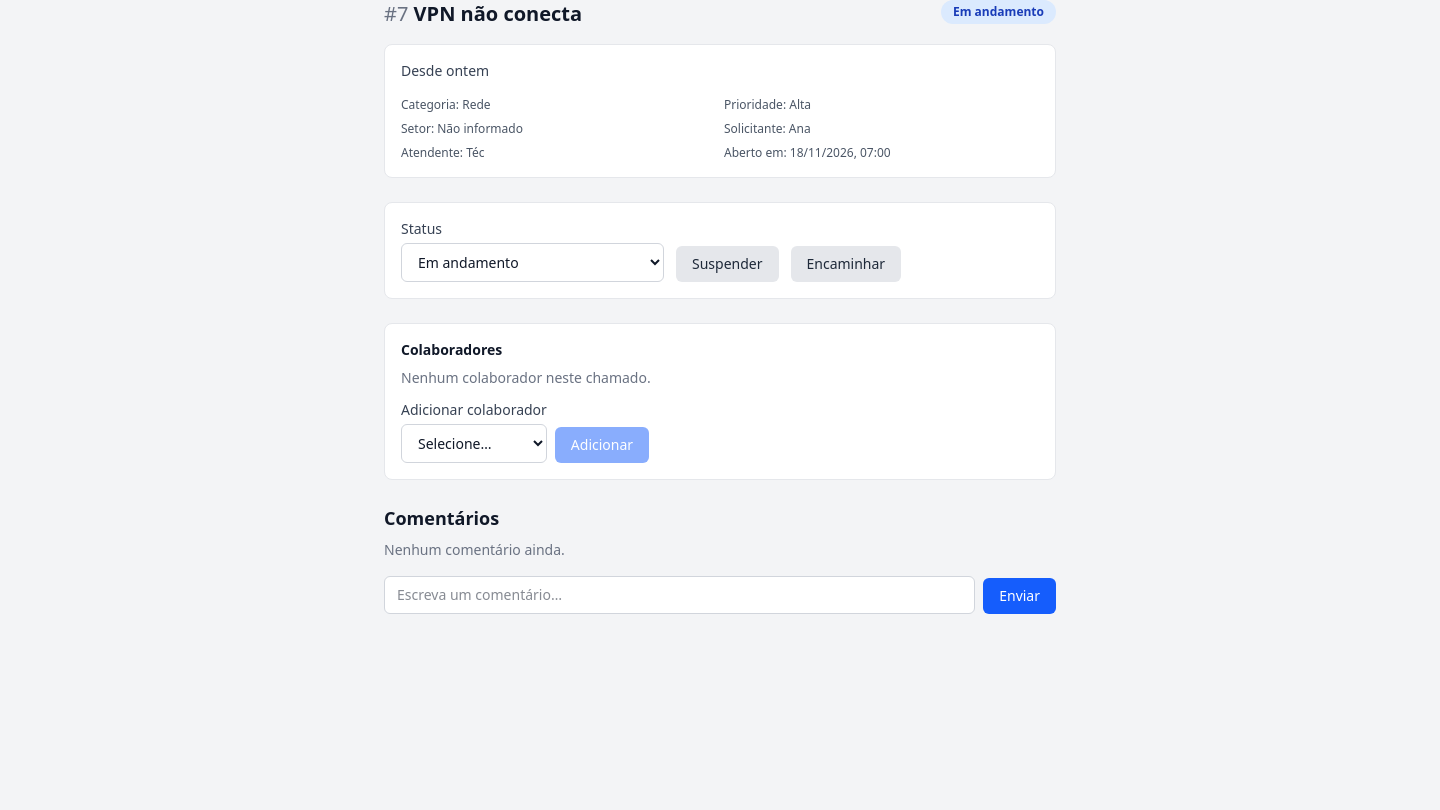
it: TicketDetalhe: encaminhar › só libera o envio com atendente escolhido e motivo de pelo menos 5 caracteres
Click the button "Encaminhar" at (846, 264), box [790, 246, 901, 282]
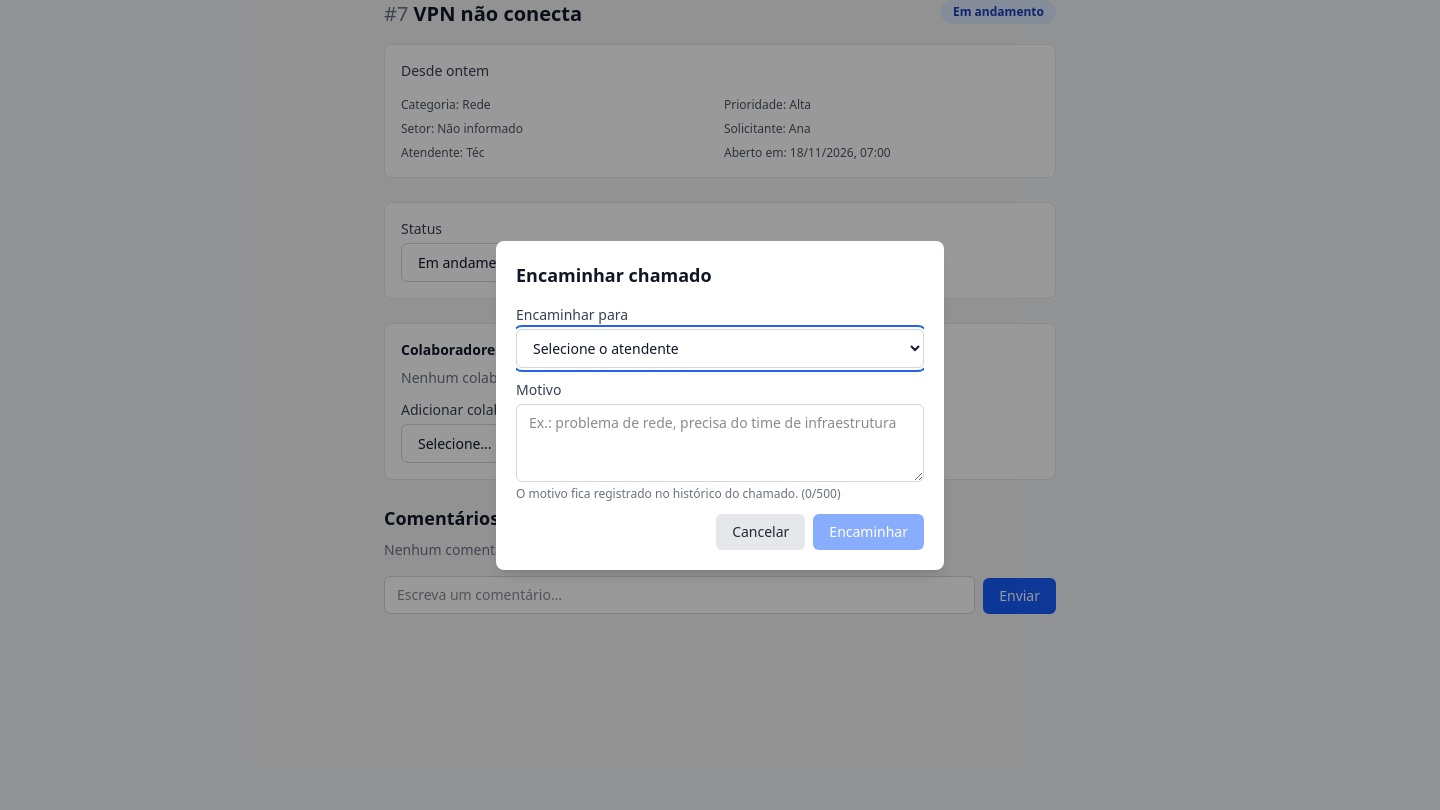
Now the button "Encaminhar" is disabled, box [813, 514, 924, 550]
Select "Bruno" in the dropdown at (720, 348), box [516, 328, 924, 368]
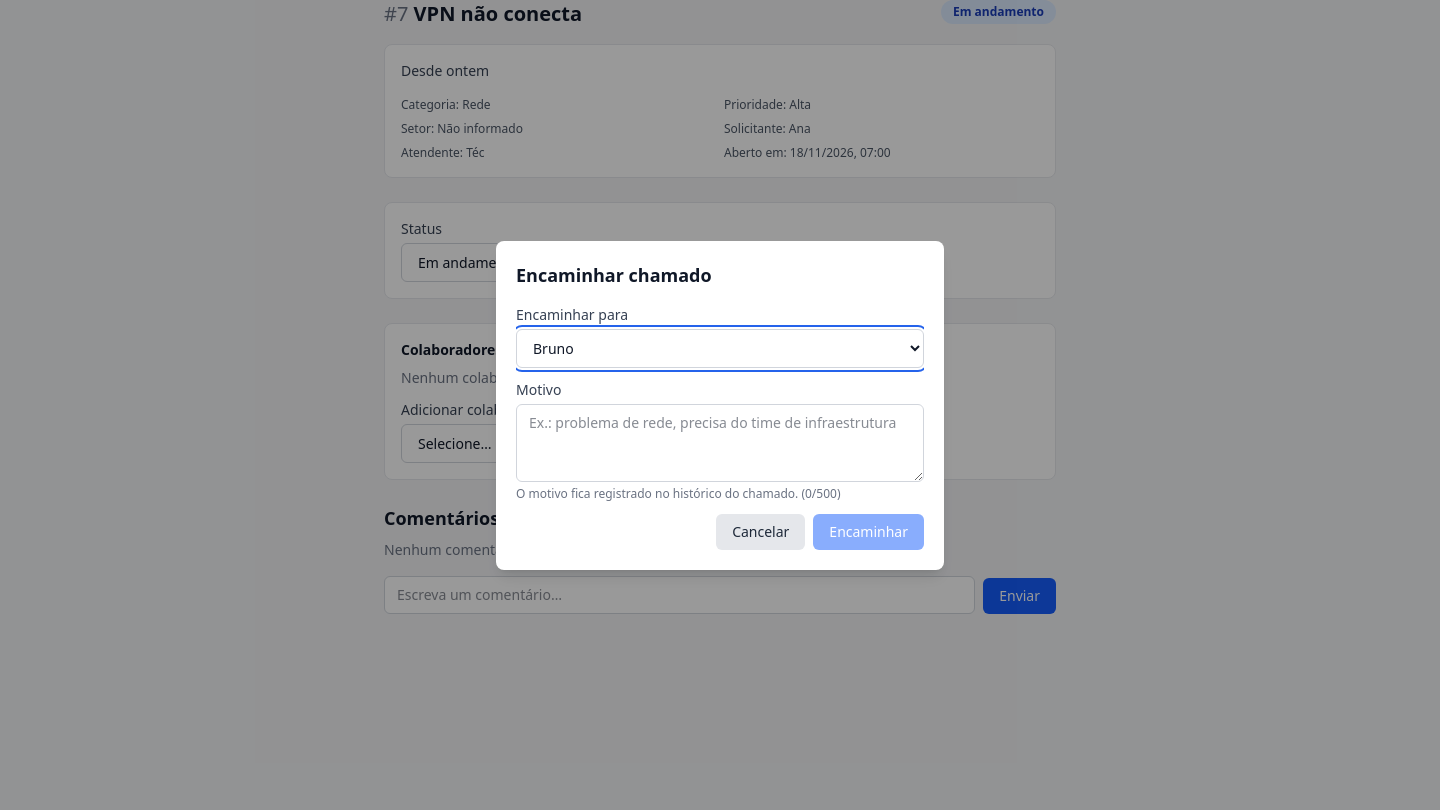
Now the button "Encaminhar" is disabled, box [813, 514, 924, 550]
Type "  abc  " into the text box labelled "Motivo" at (720, 442), box [516, 404, 924, 482]
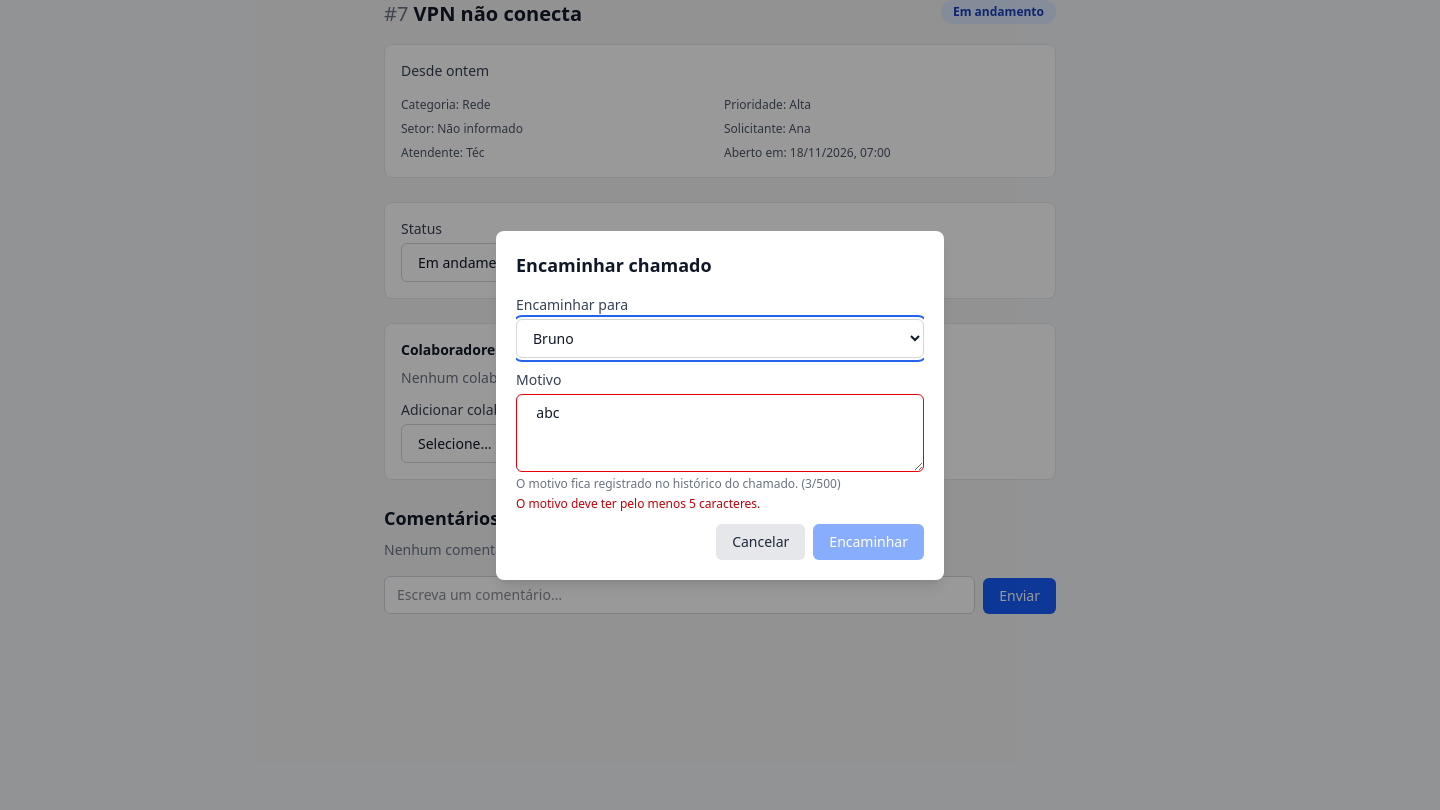
Now the button "Encaminhar" is disabled, box [813, 524, 924, 560]
Now the text "O motivo deve ter pelo menos 5 caracteres." is shown, box [516, 494, 760, 512]
Replace the text in the text box labelled "Motivo" with "abcde" at (720, 432), box [516, 394, 924, 472]
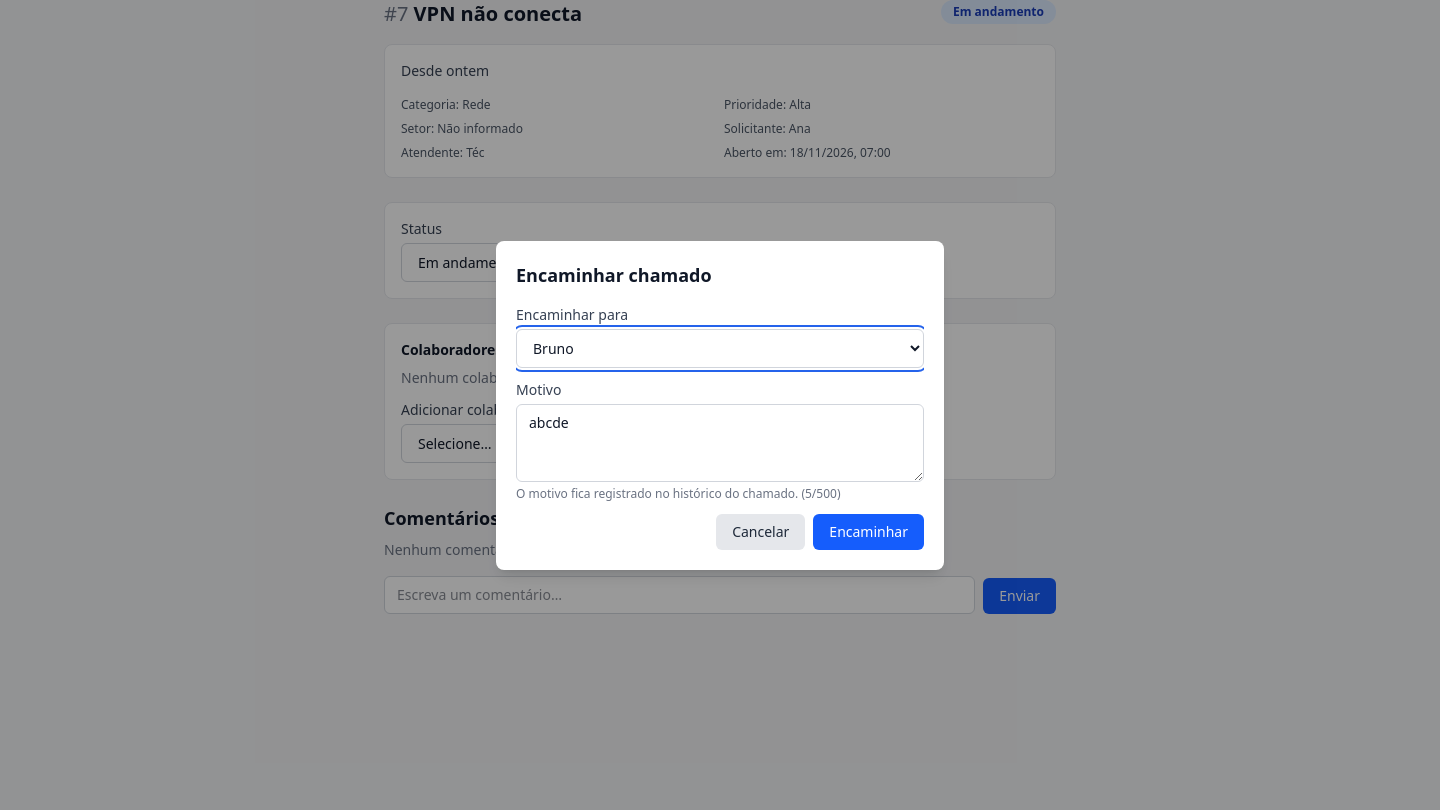
Now the button "Encaminhar" is enabled, box [813, 514, 924, 550]
